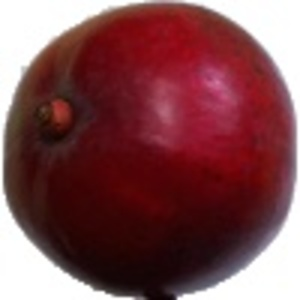manga: (3, 1, 299, 300)
